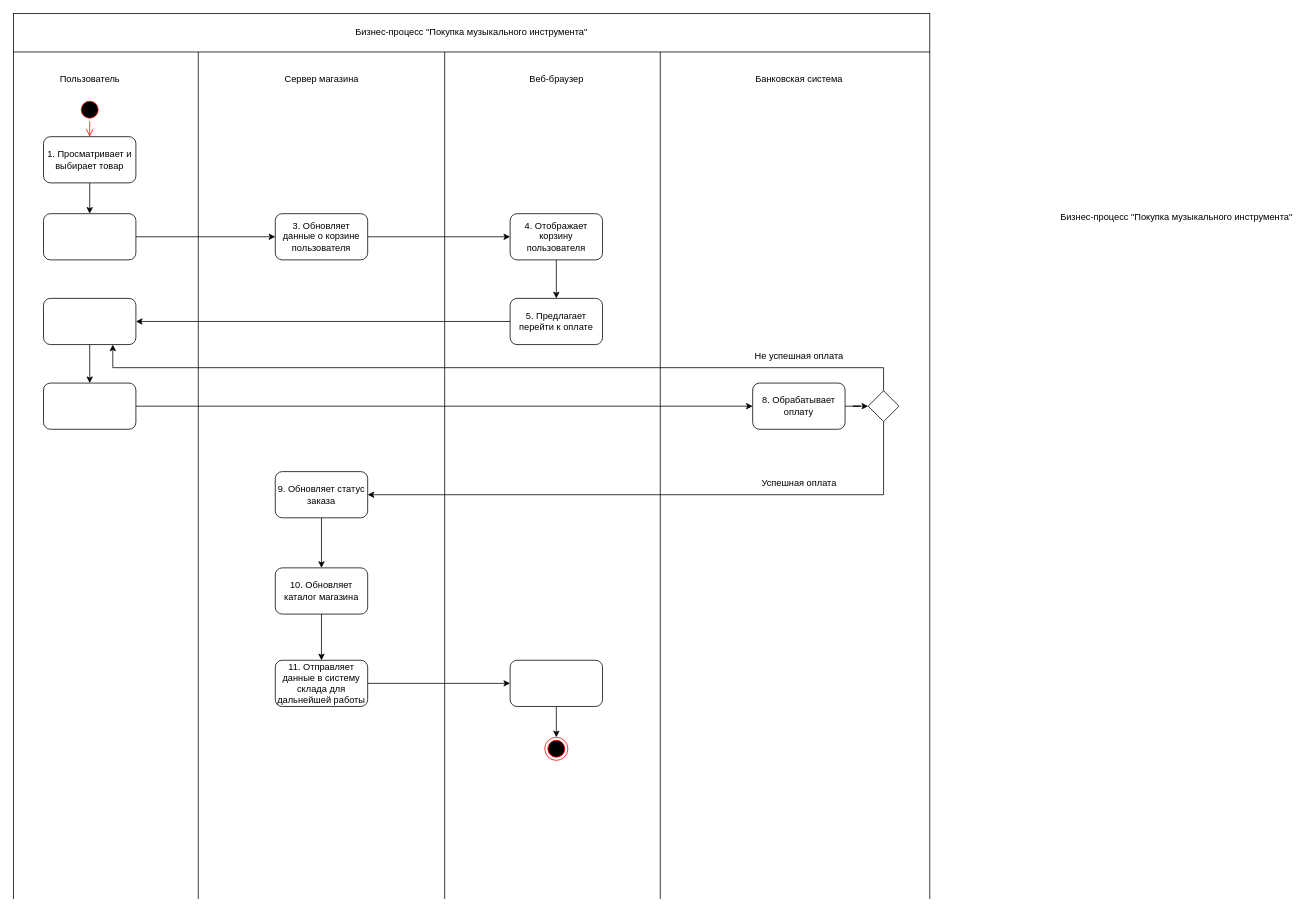
This 1313x913 diagram has some shape labels left out. Each missing label, with the centre of its shape:
12. Сообщает подбзователю об успешной покупке: the point at 556,683
2. Добавляет товар в корзину: the point at 89,236
6. Переходит на старинцу оплаты: the point at 89,321
7. Производит оплату: the point at 89,405
